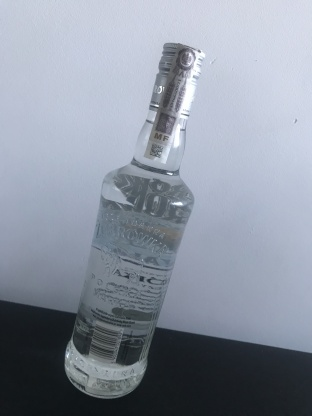nakretka: (147, 39, 207, 124)
